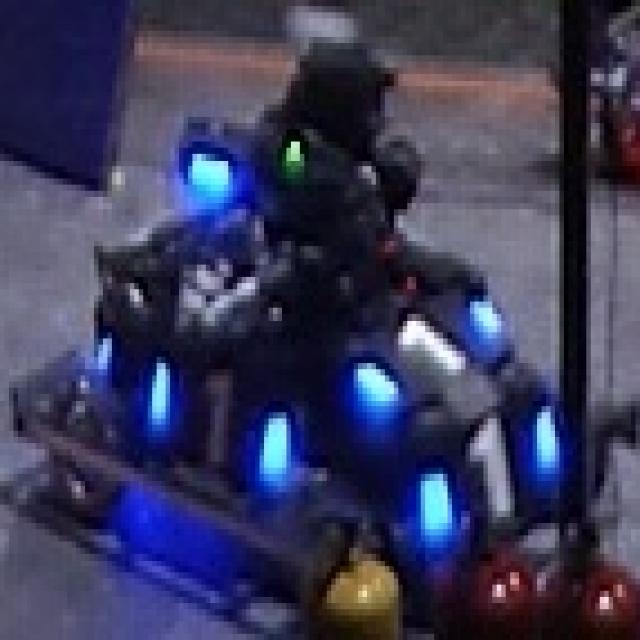B1: (144, 351, 296, 492), (416, 406, 564, 542), (349, 289, 506, 406)
